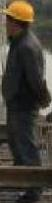boots: (15, 190, 39, 203)
hard-hat: (0, 0, 34, 23)
